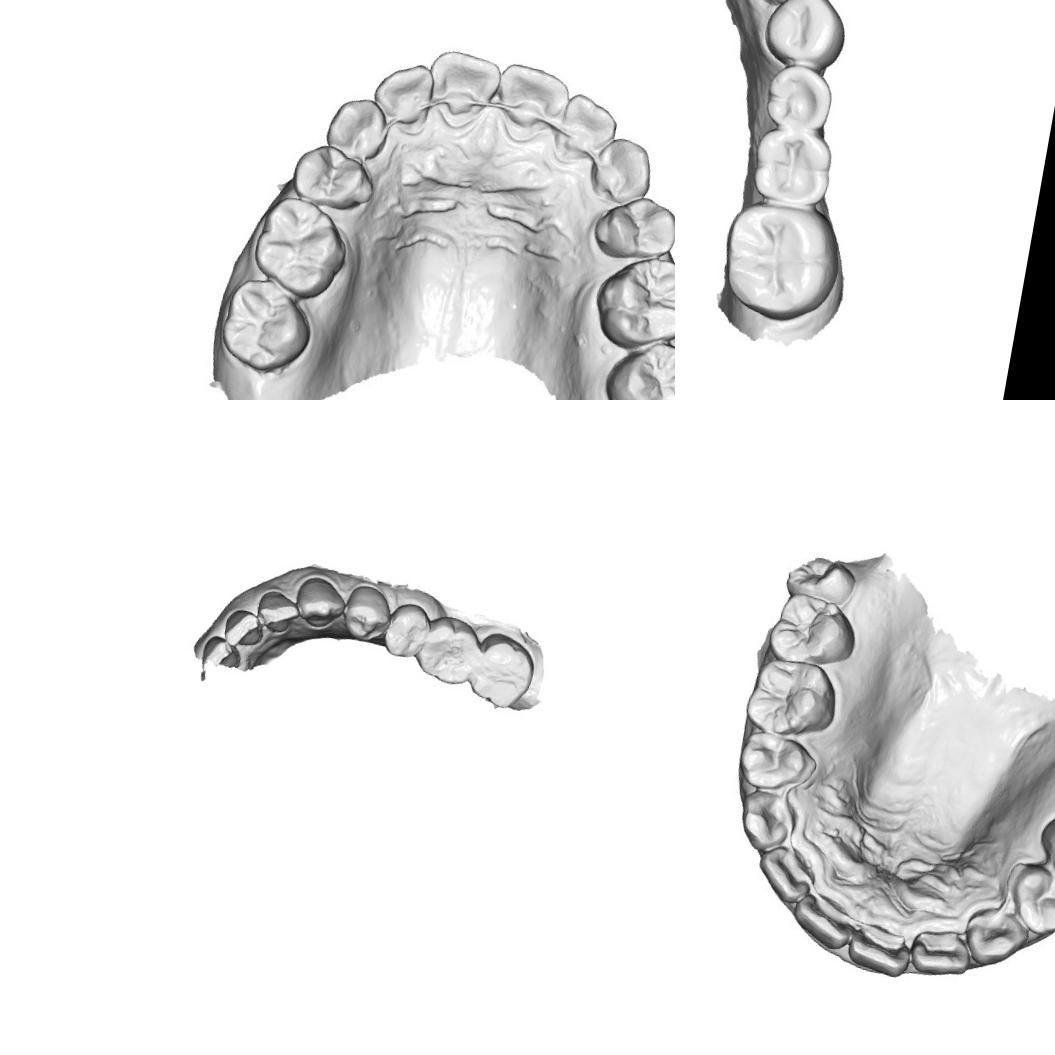canine: (960, 900, 1034, 972), (730, 783, 800, 857), (322, 90, 392, 158), (590, 133, 656, 204), (290, 572, 351, 632)
incisor: (492, 62, 572, 133), (784, 888, 860, 956), (426, 47, 500, 114), (556, 90, 620, 162), (750, 838, 814, 910), (842, 918, 914, 980), (373, 61, 436, 130), (906, 924, 973, 981), (252, 586, 305, 638), (218, 605, 268, 653), (197, 631, 244, 677)
molar: (712, 195, 844, 324), (247, 190, 352, 295), (741, 652, 844, 744), (215, 276, 312, 373), (762, 585, 863, 674), (591, 252, 675, 358), (746, 123, 836, 209), (468, 629, 540, 712), (412, 610, 487, 689), (597, 336, 675, 400), (782, 549, 862, 607), (1032, 795, 1055, 901)
premolar: (288, 138, 382, 211), (759, 0, 851, 73), (734, 722, 819, 798), (594, 187, 675, 263), (761, 58, 836, 135), (1002, 856, 1055, 940), (338, 580, 396, 646), (380, 598, 434, 662)
